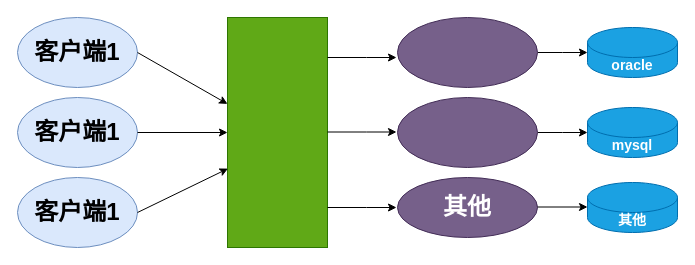
This 695x265 diagram has some shape labels left out. The shapes that lost their labels are listed below. From the top down, each one's box as (x1, y1, x2, y2) in pixels, then its label:
(396, 16, 538, 88): oracle实现
(226, 16, 328, 248): JDBC
(396, 96, 538, 168): mysql实现
